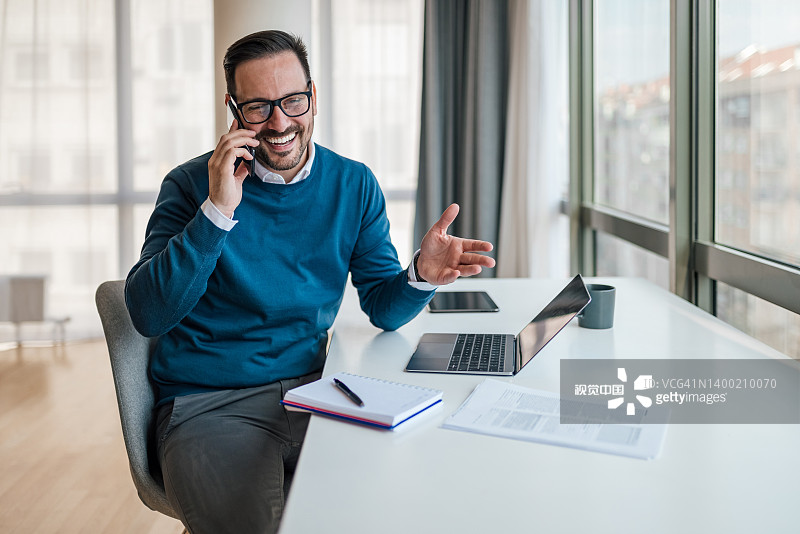calling: (179, 92, 279, 219)
no-phone: (406, 194, 514, 300)
